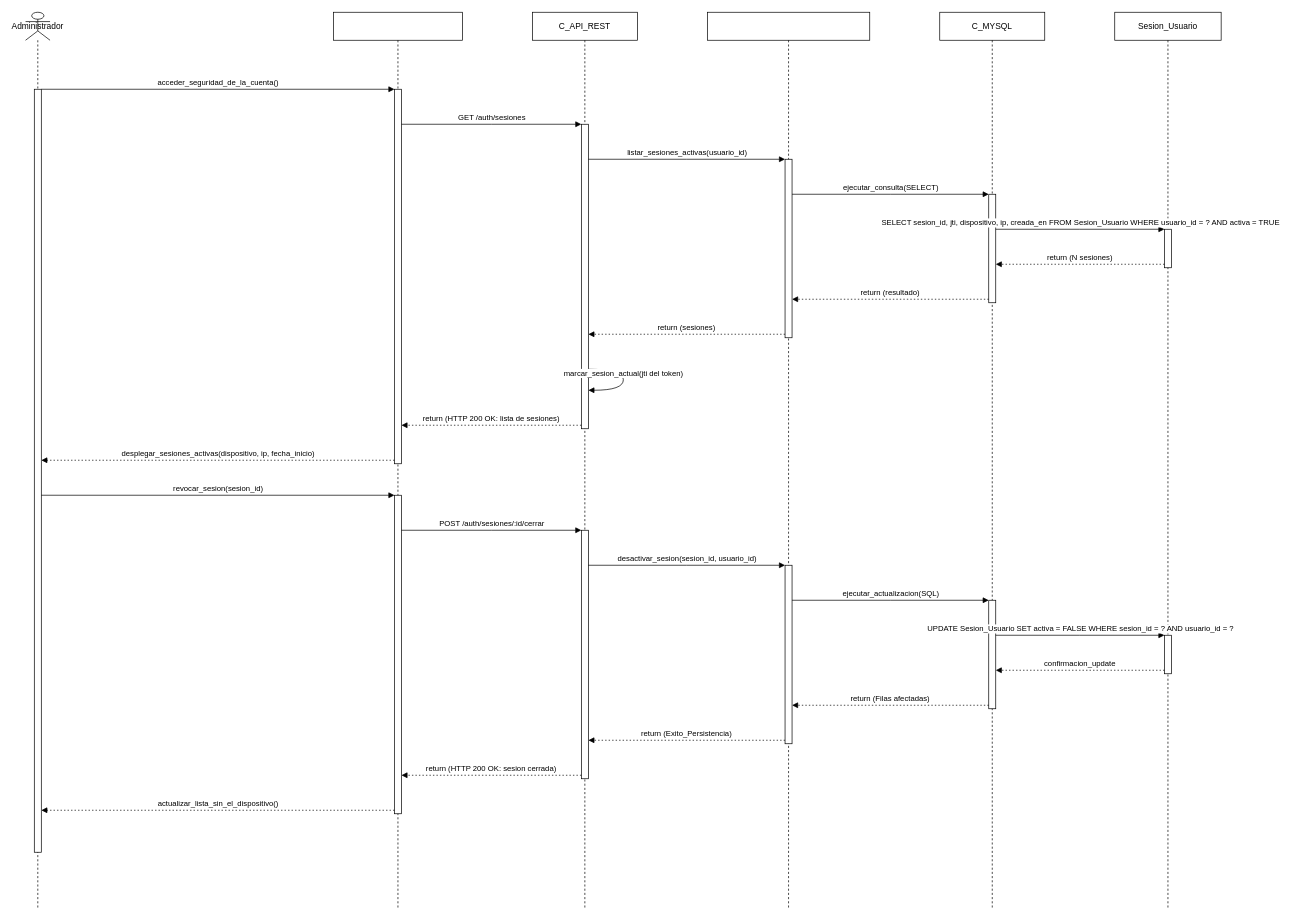
Image size: 1292x921. Some labels were removed from this diagram. The box of each missing label's shape, as (x1, y1, x2, y2) in pixels:
C_Capa_de_Acceso_a_Datos: (707, 12, 870, 908)
V_Seguridad_Cuenta: (333, 12, 462, 908)
